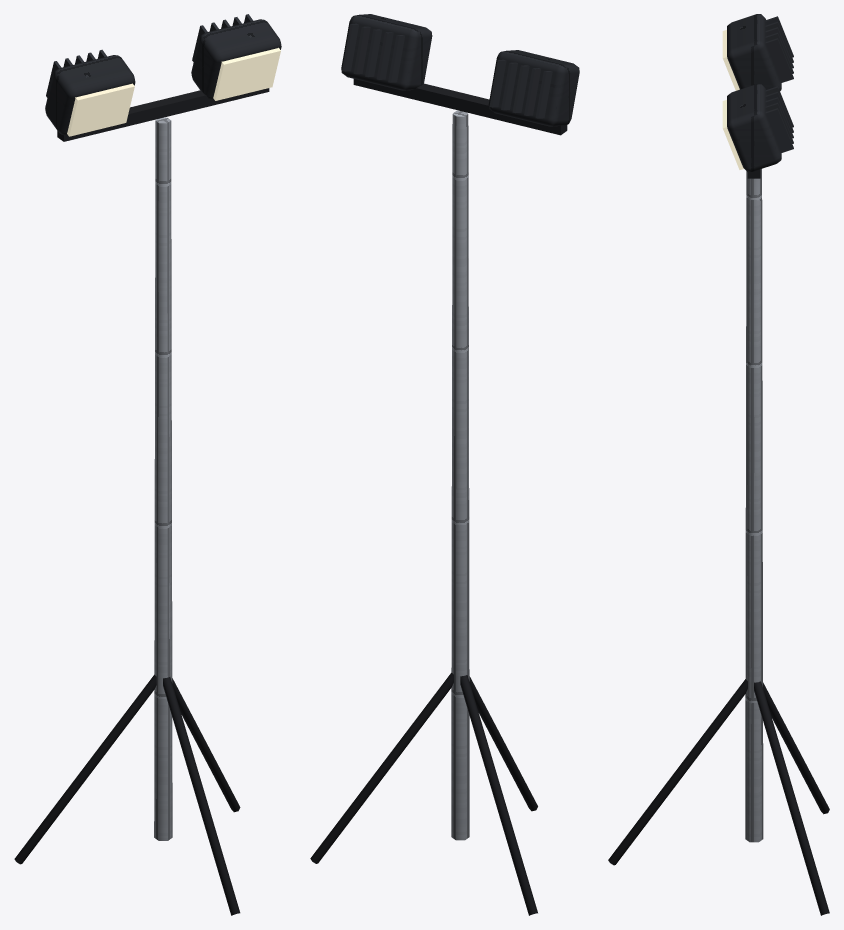
File: holofote.glb
The picture shows the model from 3 angles, left to right: view 1: azimuth 30°, elevation 25°; view 2: azimuth 150°, elevation 25°; view 3: azimuth 270°, elevation 25°; orthographic projection. The views are drawn at different scales.
Visible parts, largest first — view 1: holofote, holofote_liso; view 2: holofote, holofote_liso; view 3: holofote, holofote_liso.
Part boxes in pixels (left/top/right/bottom): holofote: left=45, top=19, right=281, bottom=840; holofote_liso: left=14, top=14, right=269, bottom=915; holofote: left=341, top=14, right=579, bottom=840; holofote_liso: left=310, top=23, right=567, bottom=915; holofote: left=722, top=14, right=781, bottom=842; holofote_liso: left=608, top=16, right=829, bottom=915.
Bounding box in the file's own units: 0.9811 × 3.42 × 0.857.
3 materials, 1 textured.
